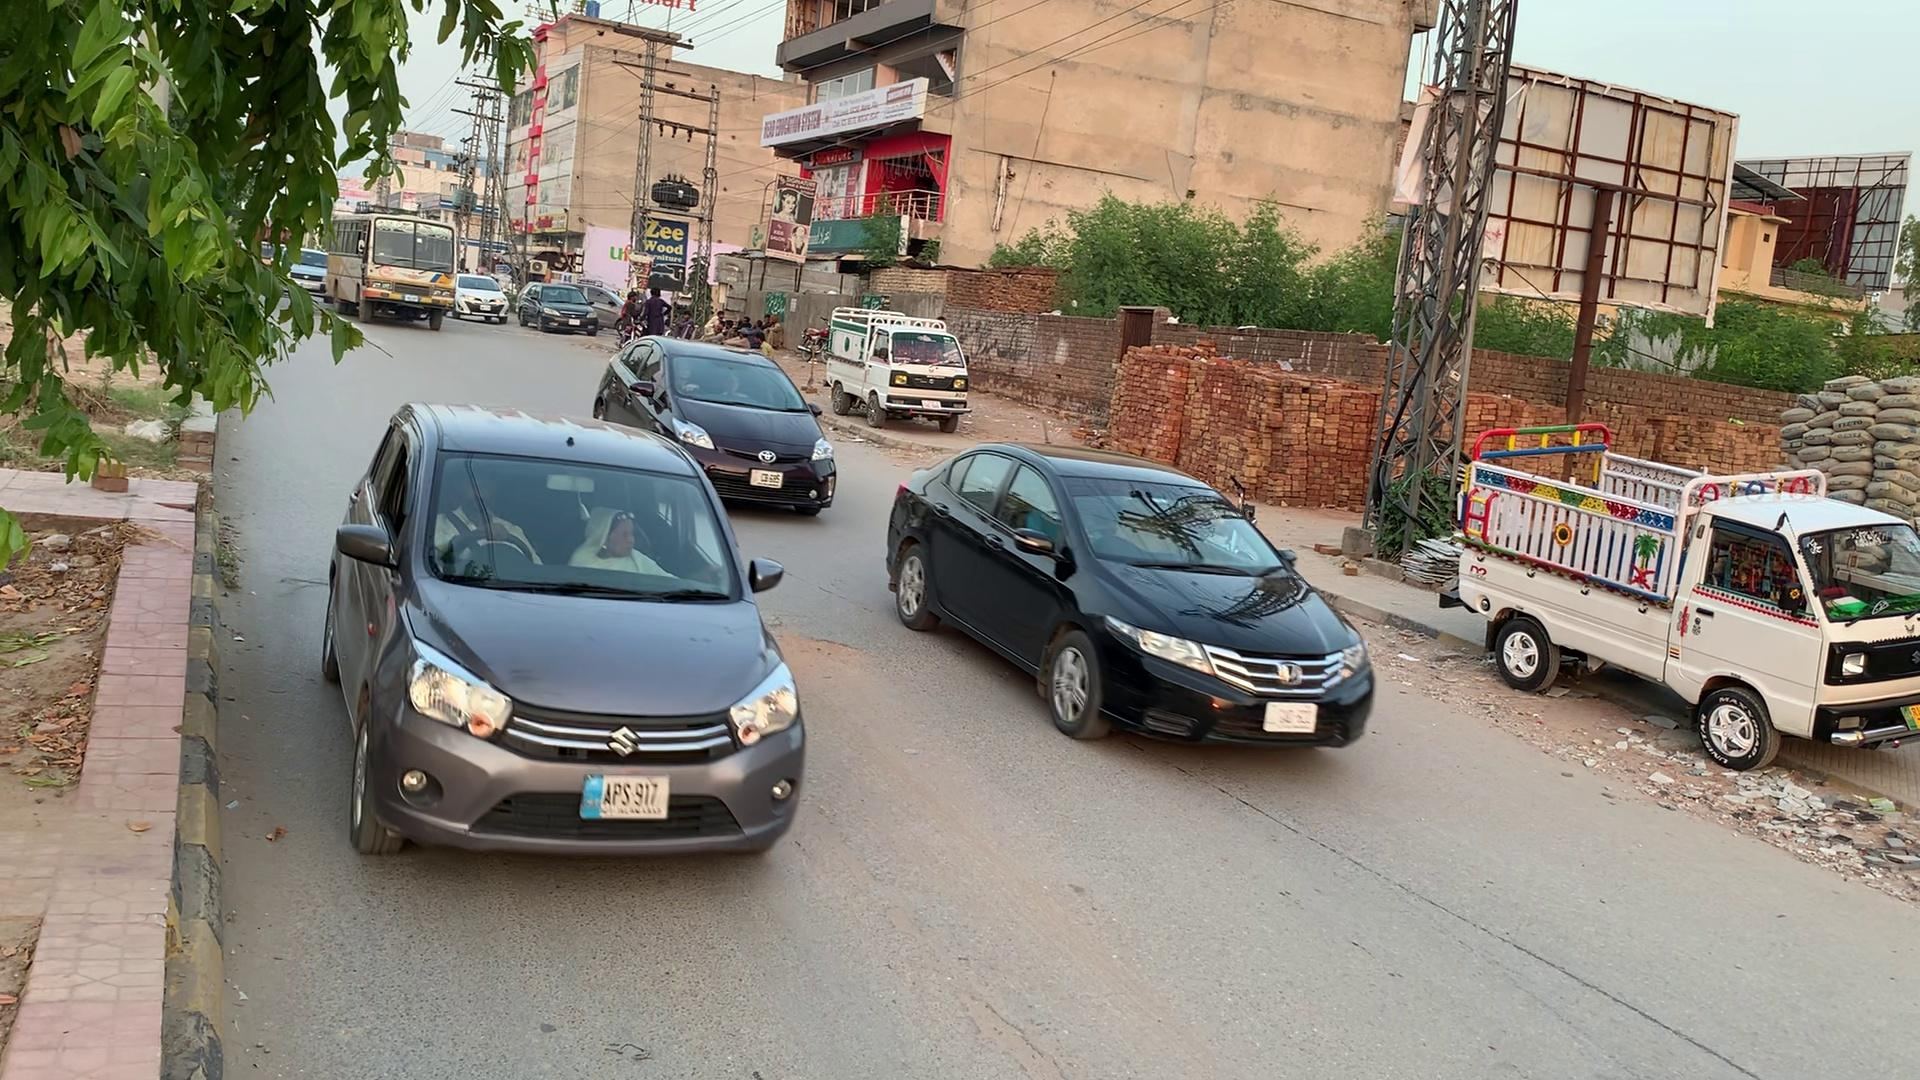windshield: (407, 430, 774, 624), (1050, 467, 1294, 579), (669, 345, 816, 417)
